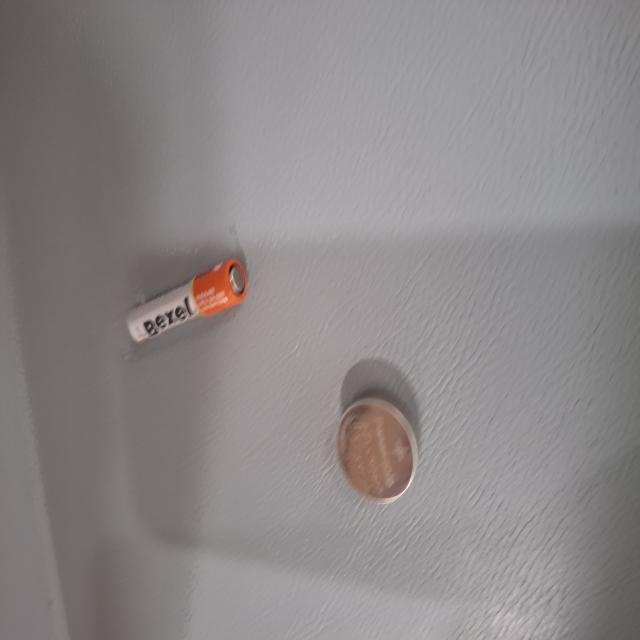AAA: (221, 168, 286, 330)
COIN: (101, 448, 182, 558)
